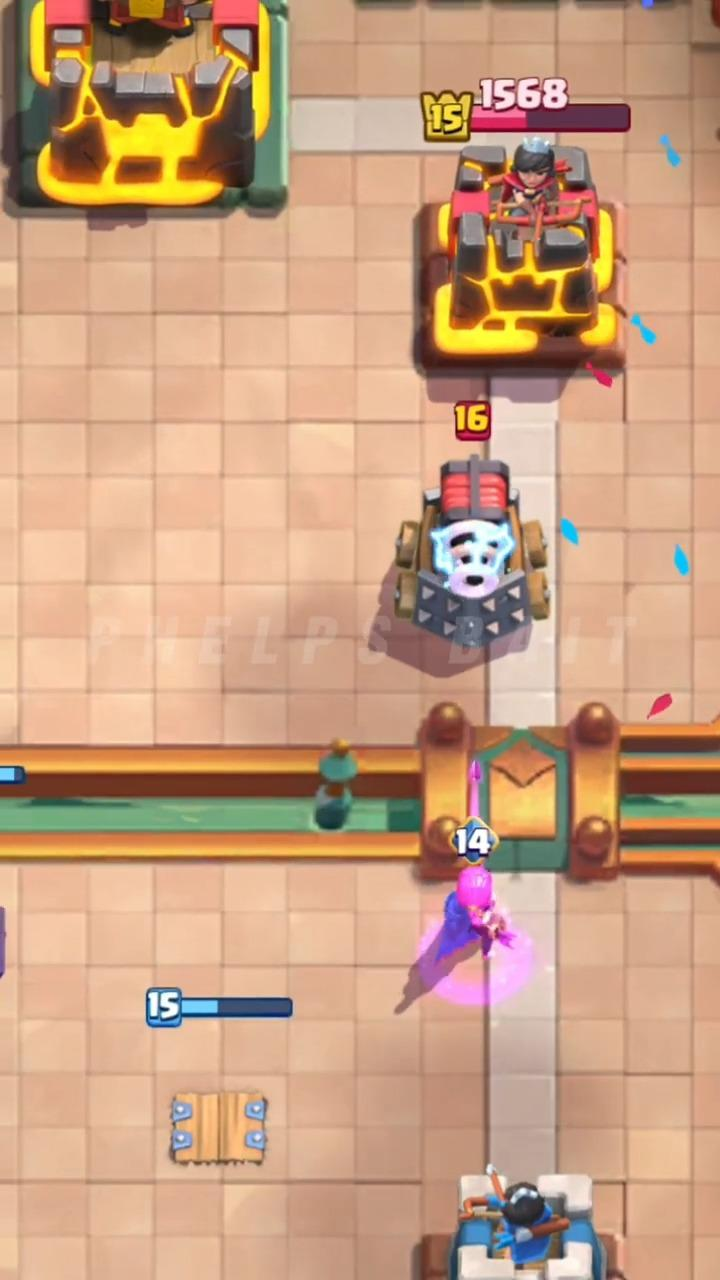archer: (434, 860, 515, 964)
sparky: (393, 454, 550, 655)
tesla: (171, 1092, 267, 1163)
